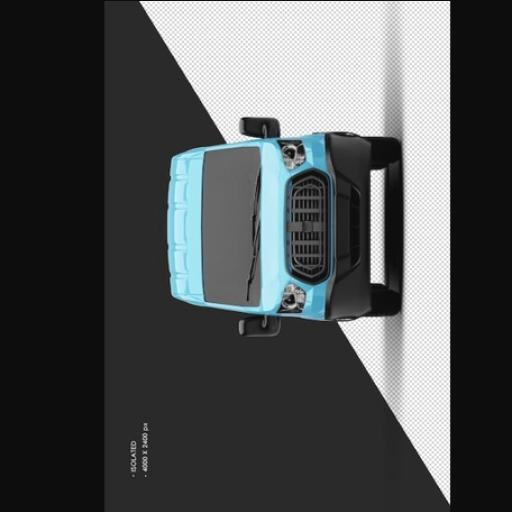van: (168, 118, 399, 335)
